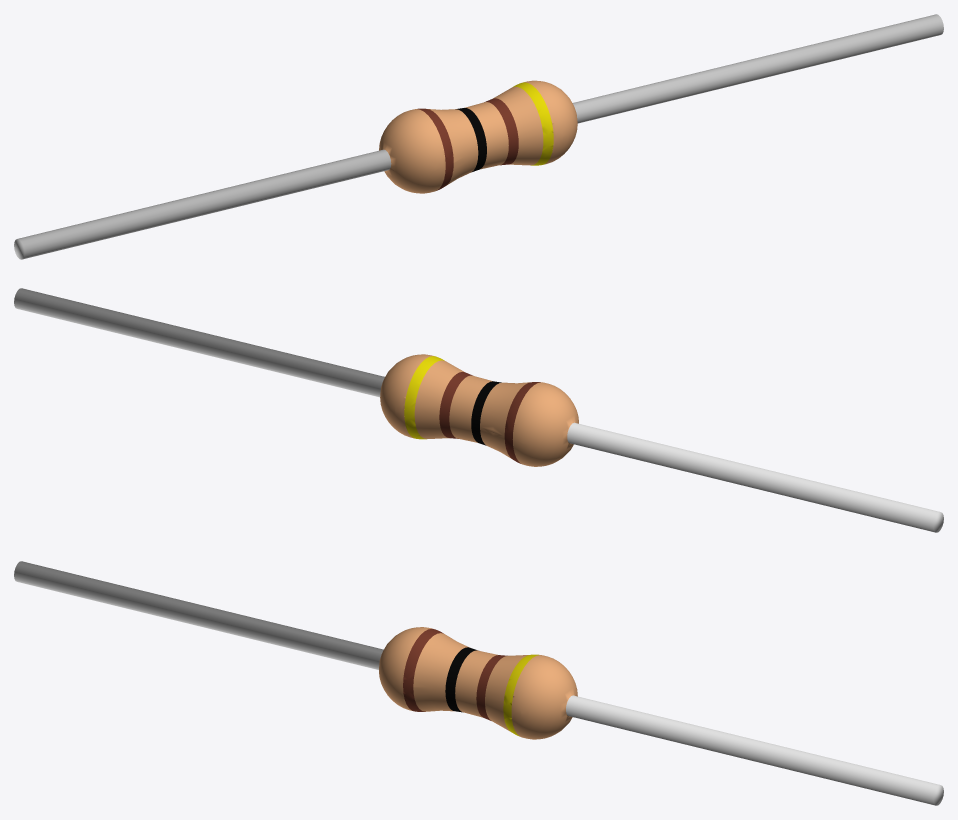
File: resistor_10k.glb
3 views of the same model, one above another, from view 1: azimuth 30°, elevation 25°; view 2: azimuth 150°, elevation 25°; view 3: azimuth 330°, elevation 25° (orthographic).
Visible parts, largest first — view 1: METAL-material, CERAMICA-material, MARRON-material, OURO-material, PRETO-material; view 2: METAL-material, CERAMICA-material, MARRON-material, OURO-material, PRETO-material; view 3: METAL-material, CERAMICA-material, MARRON-material, OURO-material, PRETO-material.
Boxes of the visible parts, bbox=[...] form: METAL-material: bbox=[14, 14, 943, 259]; CERAMICA-material: bbox=[379, 80, 577, 193]; MARRON-material: bbox=[417, 98, 518, 190]; OURO-material: bbox=[513, 82, 553, 165]; PRETO-material: bbox=[455, 108, 486, 172]; METAL-material: bbox=[14, 288, 943, 532]; CERAMICA-material: bbox=[380, 354, 578, 466]; MARRON-material: bbox=[439, 372, 540, 463]; OURO-material: bbox=[404, 356, 444, 439]; PRETO-material: bbox=[471, 381, 501, 445]; METAL-material: bbox=[14, 561, 943, 805]; CERAMICA-material: bbox=[379, 627, 577, 739]; MARRON-material: bbox=[403, 628, 507, 720]; OURO-material: bbox=[503, 654, 538, 736]; PRETO-material: bbox=[445, 647, 477, 712].
Bounding box in the file's own units: 0.0299 × 0.0024 × 0.00241.
